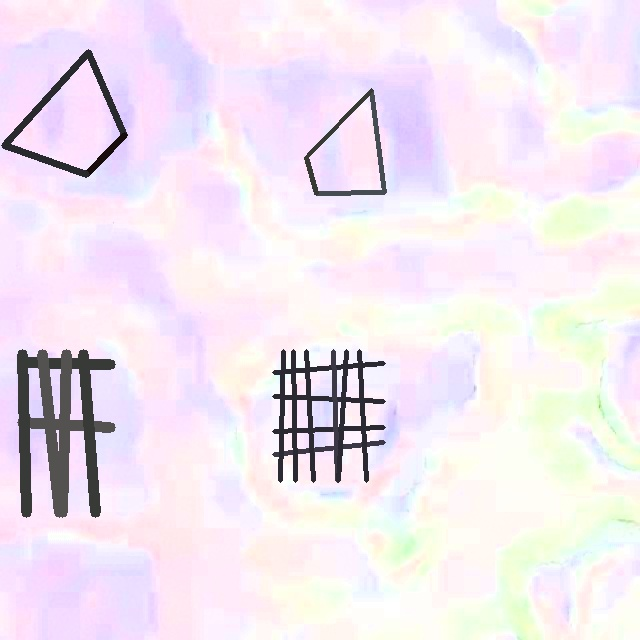close: (18, 349, 115, 516), (304, 88, 386, 195)
open: (1, 50, 126, 176), (272, 349, 385, 482)
